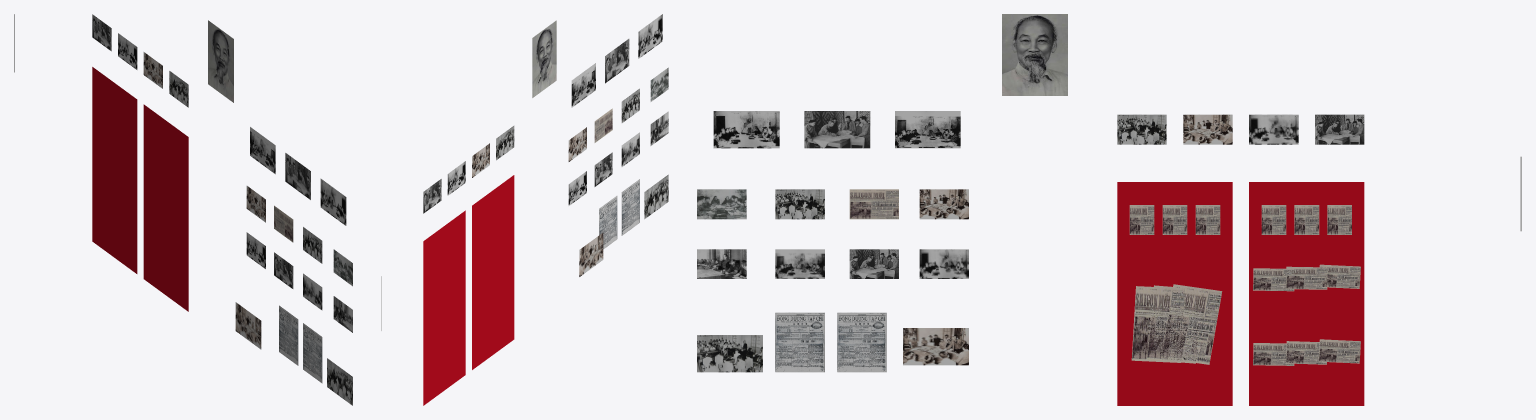
Rendered from PhongThuTu_DA.glb.
3 views of the same model, side by side, from view 1: azimuth 30°, elevation 25°; view 2: azimuth 150°, elevation 25°; view 3: azimuth 270°, elevation 25° (orthographic). The views are drawn at different scales.
Parts seen in each view (by area): view 1: Plane.009, Plane.004, Plane.017, Plane.019, Plane.011, Plane.012, Plane.015, Plane.016, Plane.018, Plane.014, Plane.013, Plane.002 (+10 smaller); view 2: Plane.004, Plane.009, Plane.017, Plane.019, Plane.011, Plane.018, Plane.012, Plane.016, Plane.014, Plane.015, Plane.013, Plane.002 (+10 smaller); view 3: Plane.004, Plane.009, Plane.017, Plane.025, Plane.027, Plane.019, Plane.011, Plane.012, Plane.014, Plane.018, Plane.015, Plane.016 (+25 smaller).
Boxes of the visible parts, box(x1,y1,x2,y2) form: Plane.009: box(143, 104, 188, 311); Plane.004: box(92, 67, 137, 273); Plane.017: box(208, 20, 233, 102); Plane.019: box(303, 323, 322, 383); Plane.011: box(279, 305, 298, 365); Plane.012: box(320, 178, 346, 225); Plane.015: box(235, 302, 261, 349); Plane.016: box(250, 127, 275, 174); Plane.018: box(327, 358, 352, 405); Plane.014: box(285, 153, 310, 199); Plane.013: box(92, 14, 111, 51); Plane.002: box(274, 205, 293, 242); Plane.004: box(423, 210, 465, 405); Plane.009: box(472, 175, 514, 369); Plane.017: box(532, 20, 556, 97); Plane.019: box(621, 179, 639, 235); Plane.011: box(599, 196, 617, 249); Plane.018: box(644, 174, 668, 219); Plane.012: box(638, 14, 662, 58); Plane.016: box(571, 63, 595, 107); Plane.014: box(605, 39, 629, 83); Plane.015: box(579, 232, 603, 276); Plane.013: box(423, 179, 441, 213); Plane.002: box(594, 108, 612, 142); Plane.004: box(1249, 182, 1364, 405); Plane.009: box(1117, 182, 1232, 405); Plane.017: box(1002, 14, 1067, 95); Plane.025: box(1160, 284, 1222, 364); Plane.027: box(1131, 286, 1185, 362); Plane.019: box(775, 312, 824, 372); Plane.011: box(837, 312, 886, 372); Plane.012: box(713, 111, 779, 148); Plane.014: box(804, 111, 870, 148); Plane.018: box(697, 335, 762, 372); Plane.015: box(903, 328, 968, 365); Plane.016: box(895, 111, 960, 148).
Size of the model in its own units: 0.16 by 2.62 by 5.01.
38 materials, 35 textured.
